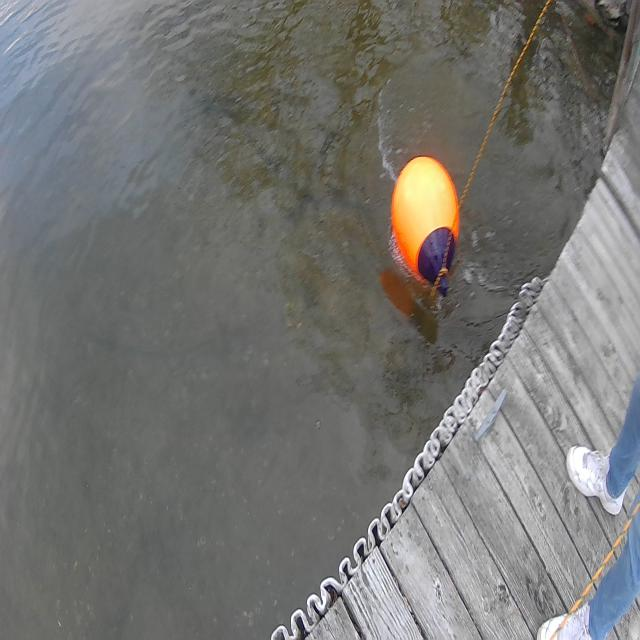Buoy: (389, 145, 463, 310)
